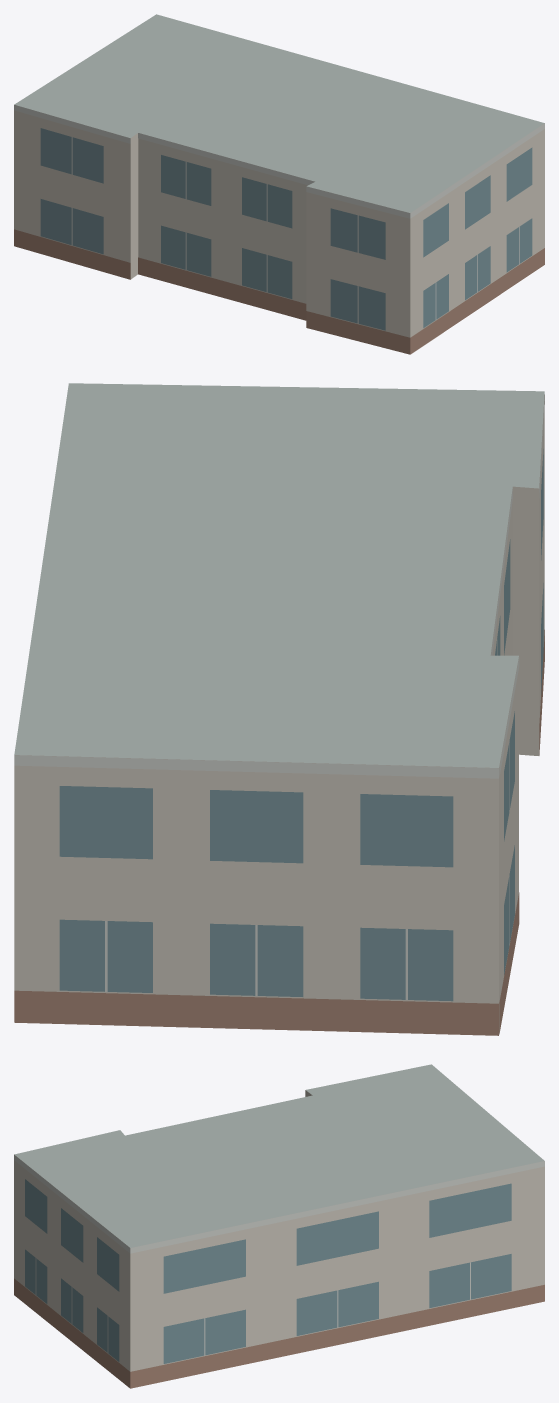
Rendered from survey-upis-32961757.glb.
3 renders of one model, top to bottom at view 1: azimuth 30°, elevation 25°; view 2: azimuth 150°, elevation 25°; view 3: azimuth 270°, elevation 25°, orthographic. The views are drawn at different scales.
Visible parts, largest first — view 1: survey-upis-32961757.tmp; view 2: survey-upis-32961757.tmp; view 3: survey-upis-32961757.tmp.
Boxes of the visible parts, left/top/right/bottom form: survey-upis-32961757.tmp: left=14, top=14, right=544, bottom=354; survey-upis-32961757.tmp: left=14, top=383, right=544, bottom=1035; survey-upis-32961757.tmp: left=14, top=1064, right=544, bottom=1388.
Size of the model in its own units: 17.11 by 6.1 by 20.88.
